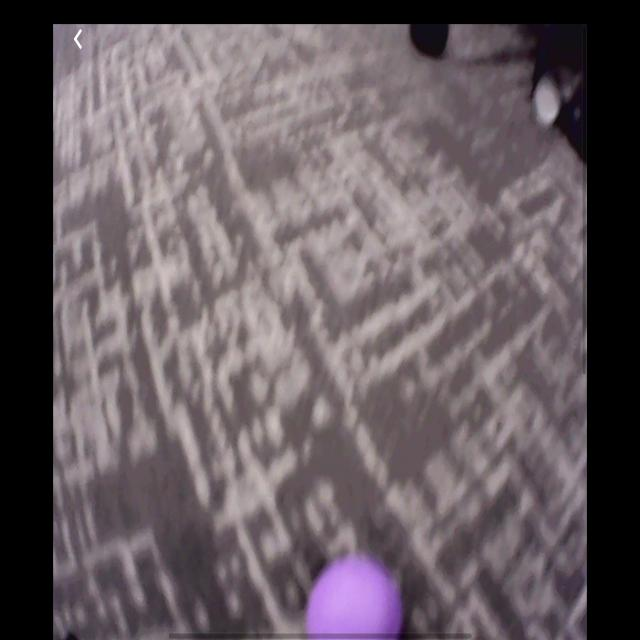ball: (309, 556, 402, 640)
